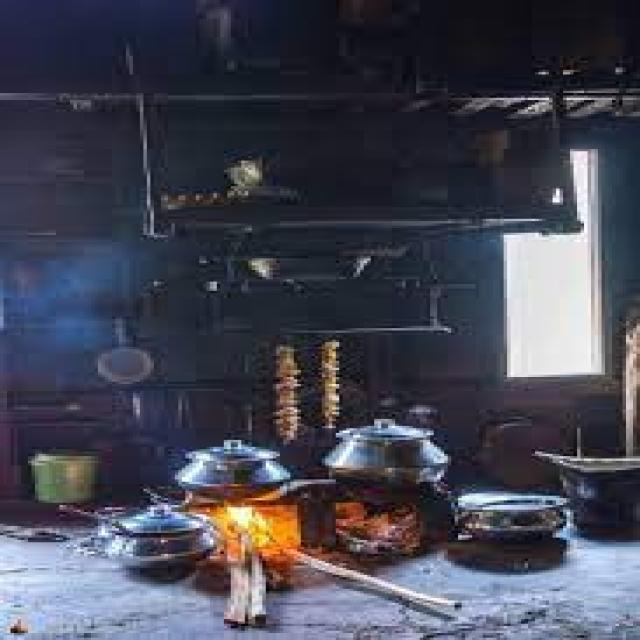fire: (210, 506, 298, 558)
